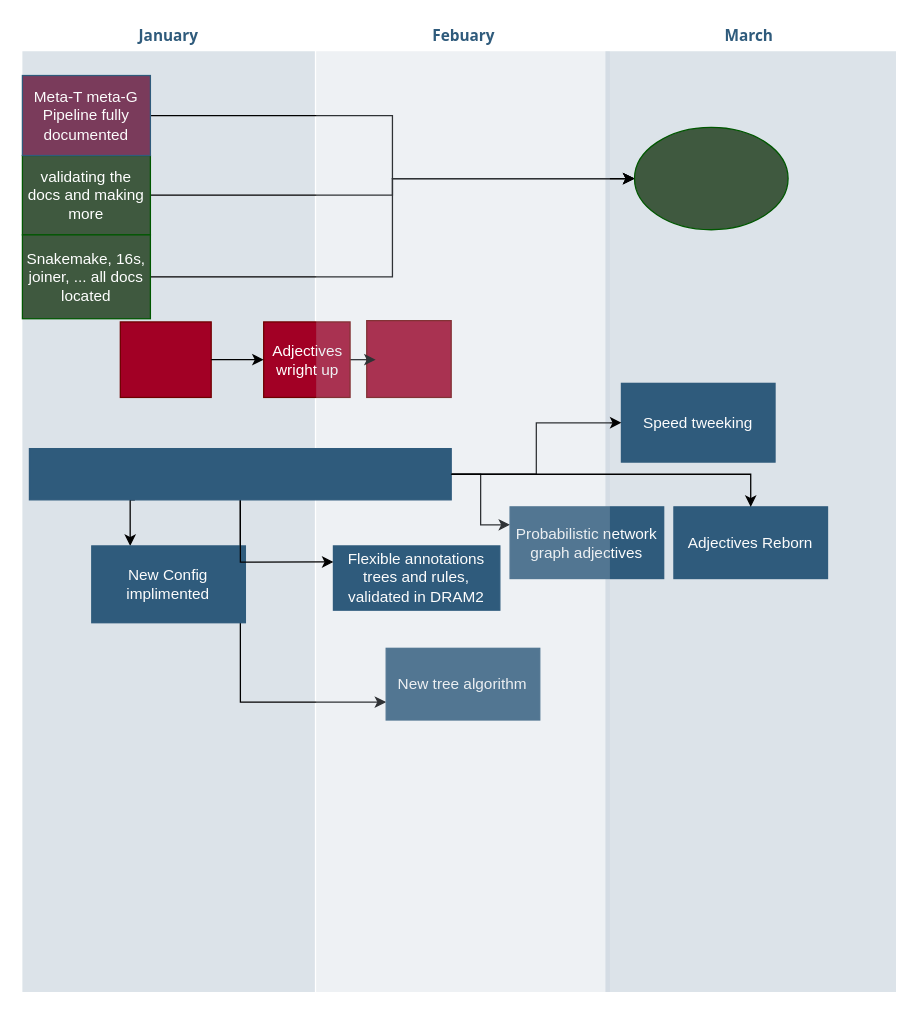
Some shapes in this 918 by 1014 pixel diagram are drawn without their labels. The box of each missing label's shape, as (x1, y1, x2, y2) in pixels:
Departure Docs Done: (633, 126, 788, 230)
DRAM2 Full Beta: (28, 447, 451, 500)
Profiling wright up: (365, 319, 451, 397)
usability wright up: (119, 321, 211, 397)
